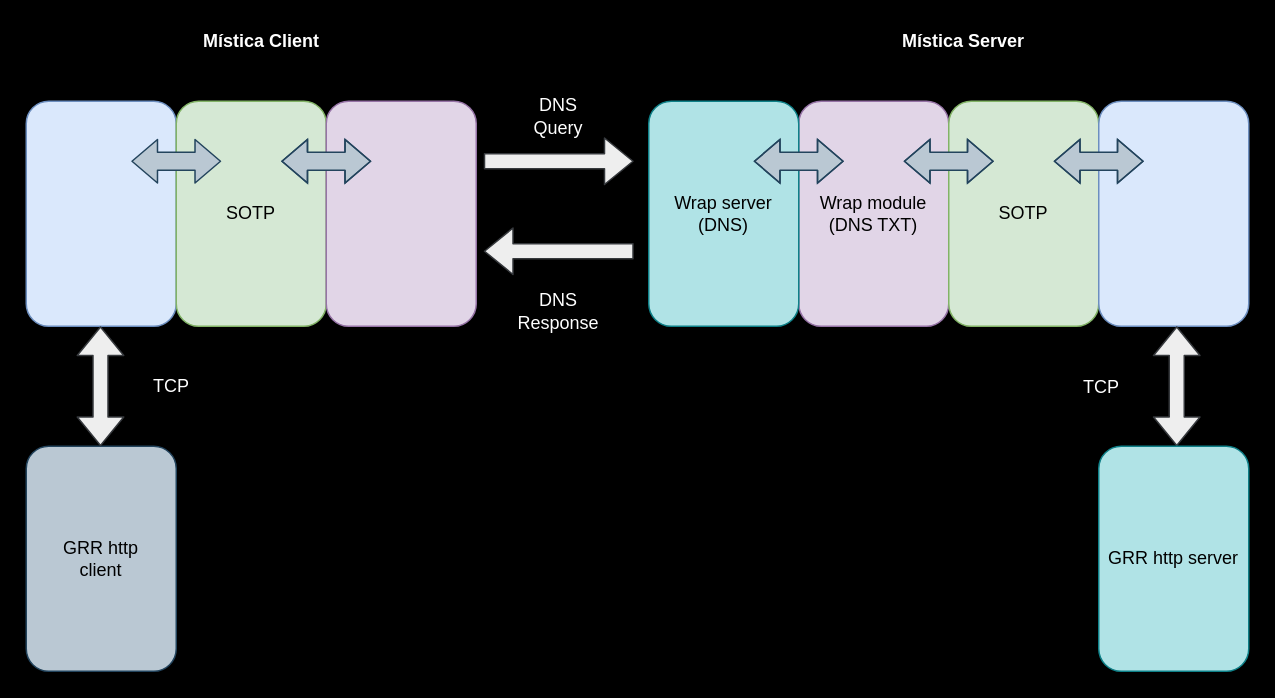
The diagram is 1275 pixels wide and 698 high, and some of its shapes have lost their labels. Each missing label, with the centre of its shape:
"Overlay (tcpconnect) flag persist" belongs at point 1173,213.
"Overlay (tcplisten) flag persist" belongs at point 100,213.
"Wrapper (DNS)" belongs at point 400,213.
